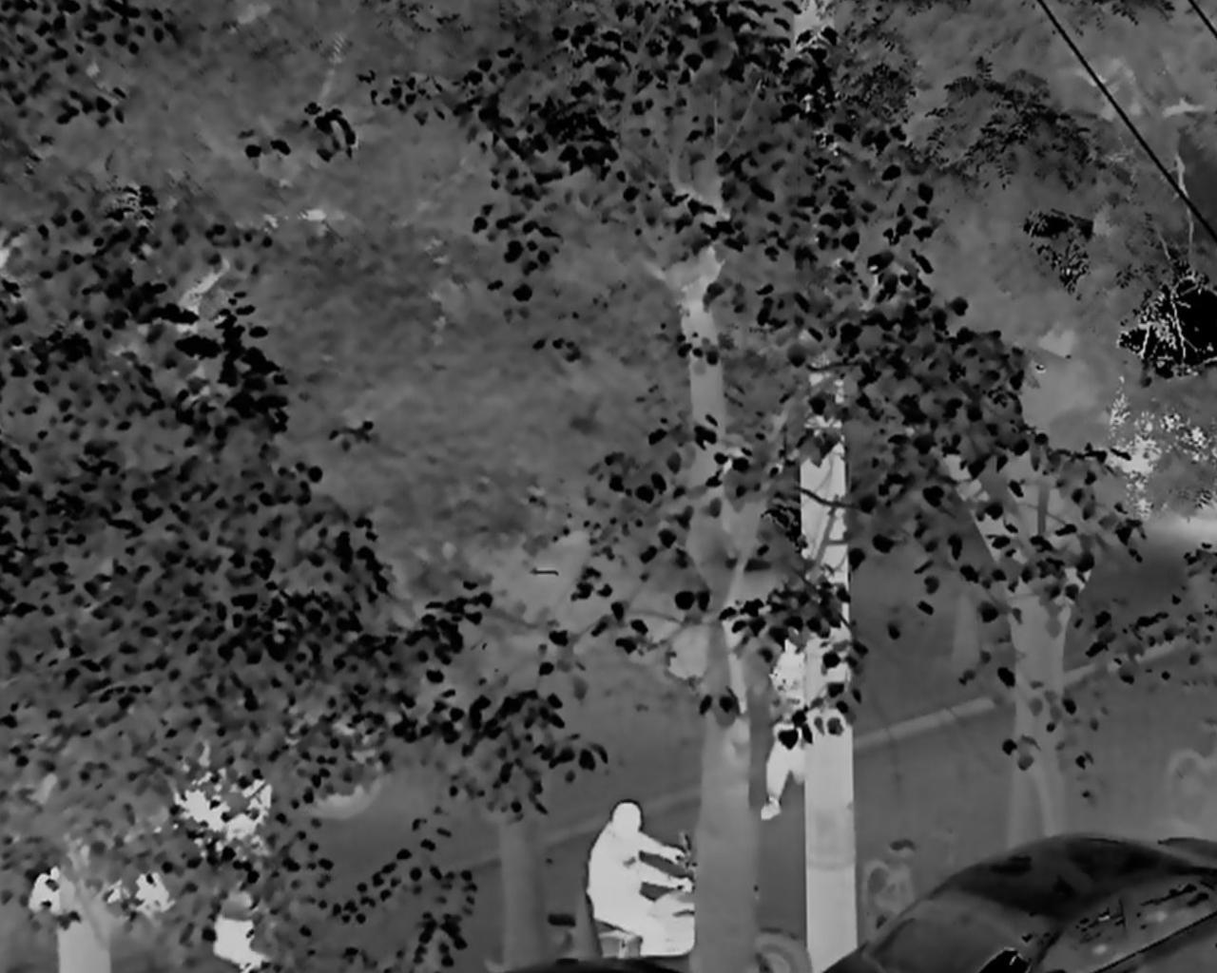person: (583, 802, 691, 973), (765, 627, 810, 821)
